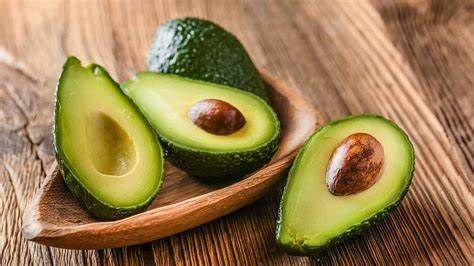Avacado: (117, 55, 282, 186), (51, 45, 171, 224), (280, 111, 411, 266), (156, 12, 269, 123)
